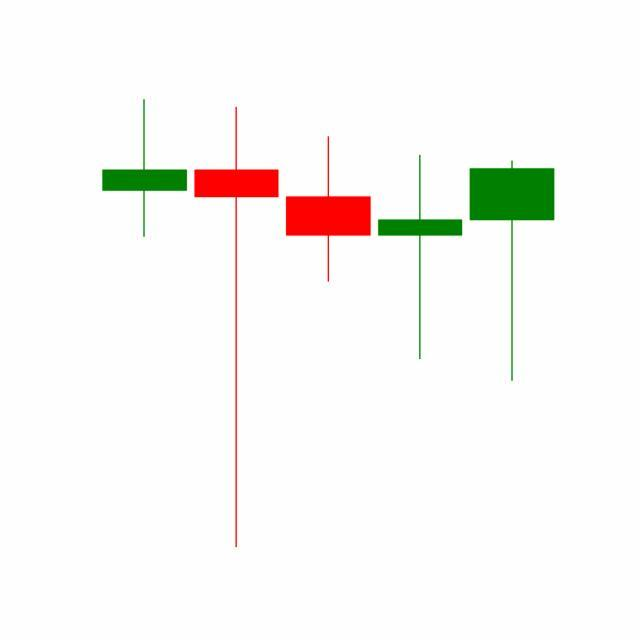Spinning Top: (374, 153, 468, 363)
